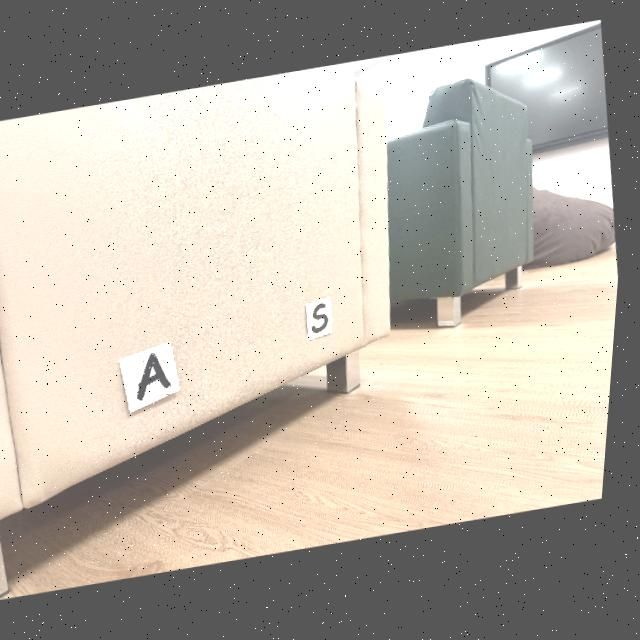A: (144, 354, 176, 401)
S: (317, 305, 334, 336)
